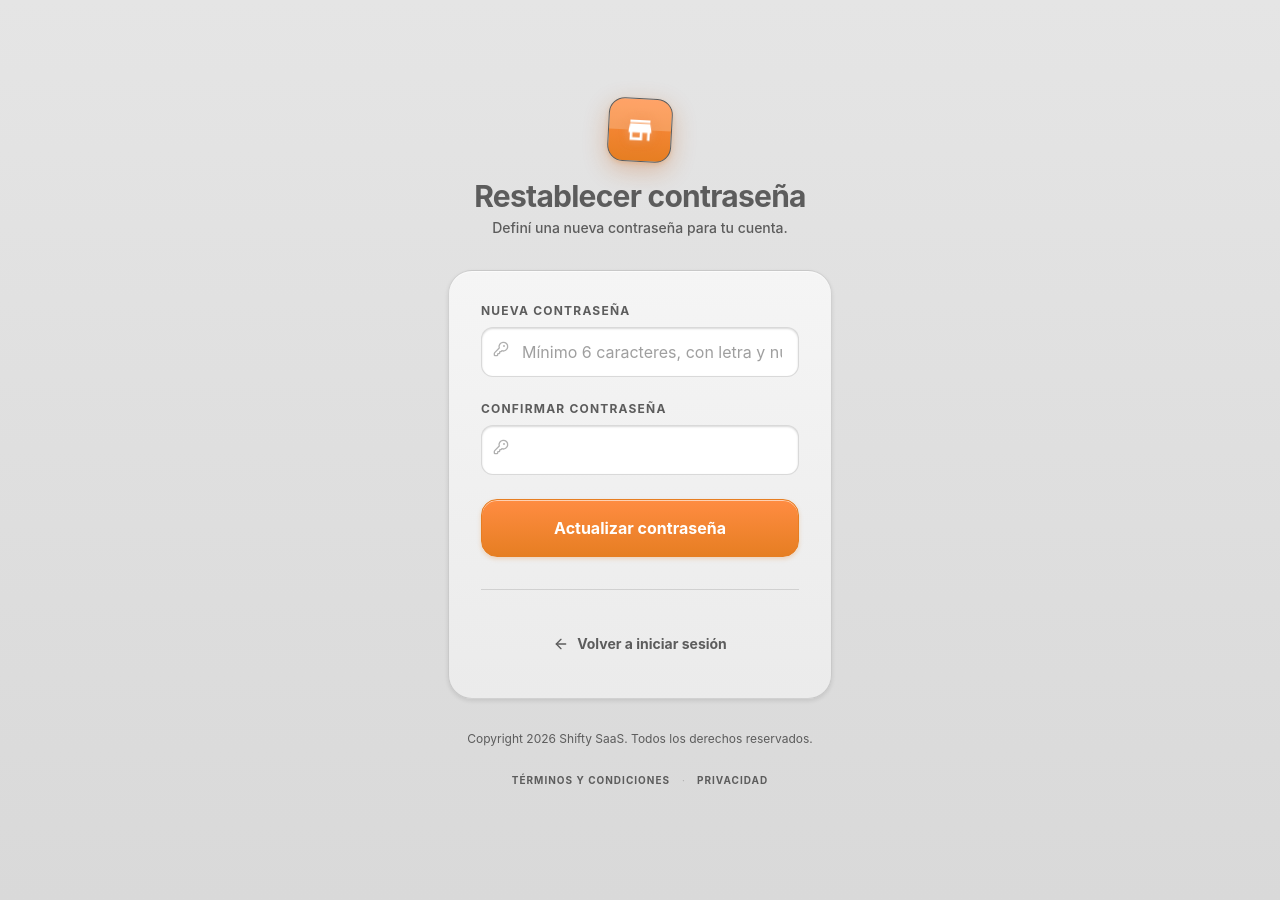
Test case: ResetPasswordPage › pide letra y número como el backend
This screenshot has width=1280, height=900.
Type "abcdefgh" into the password field labelled "Nueva contraseña" at coordinates (640, 352), box [481,326,799,376]
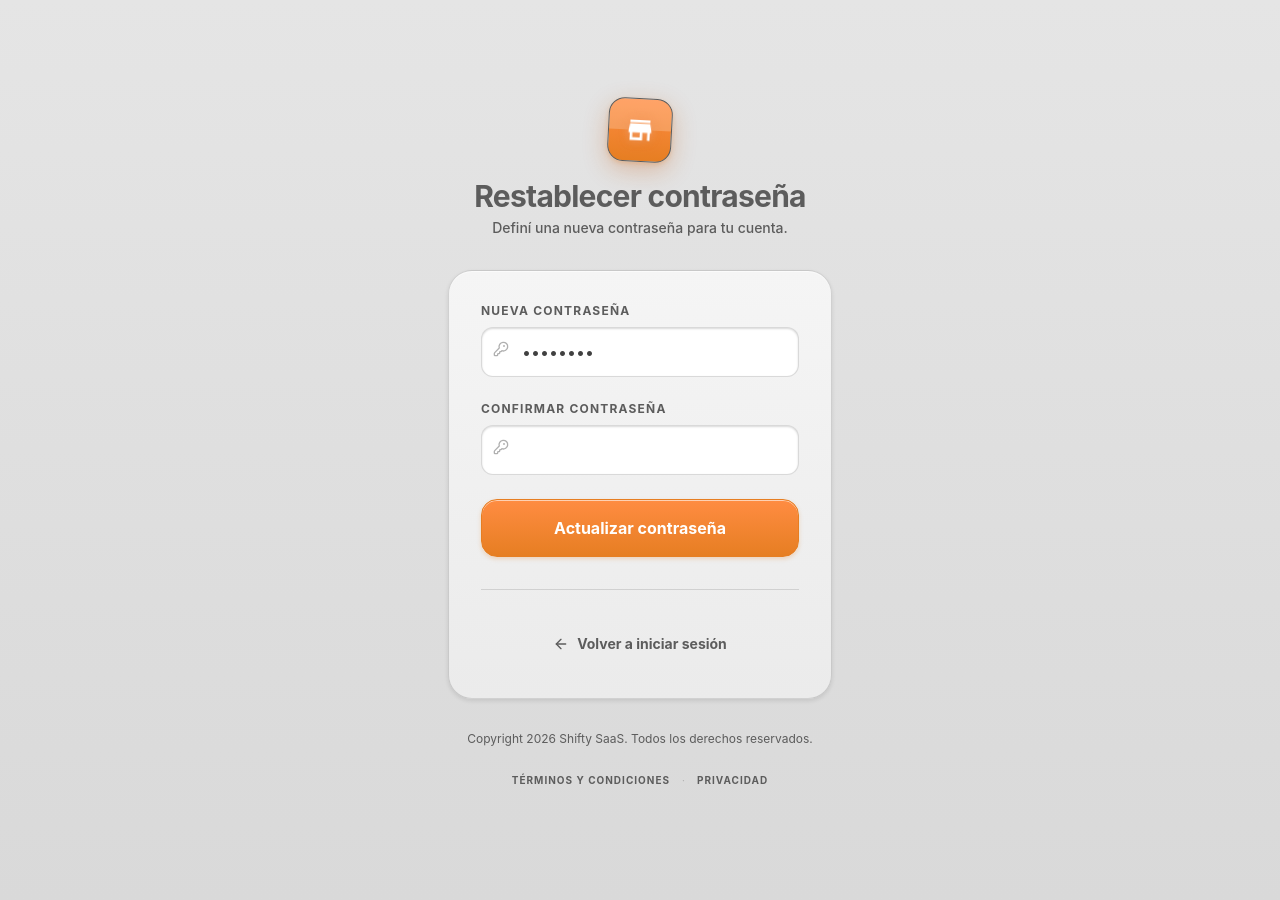
Type "abcdefgh" into the password field labelled "Confirmar contraseña" at coordinates (640, 450), box [481,424,799,474]
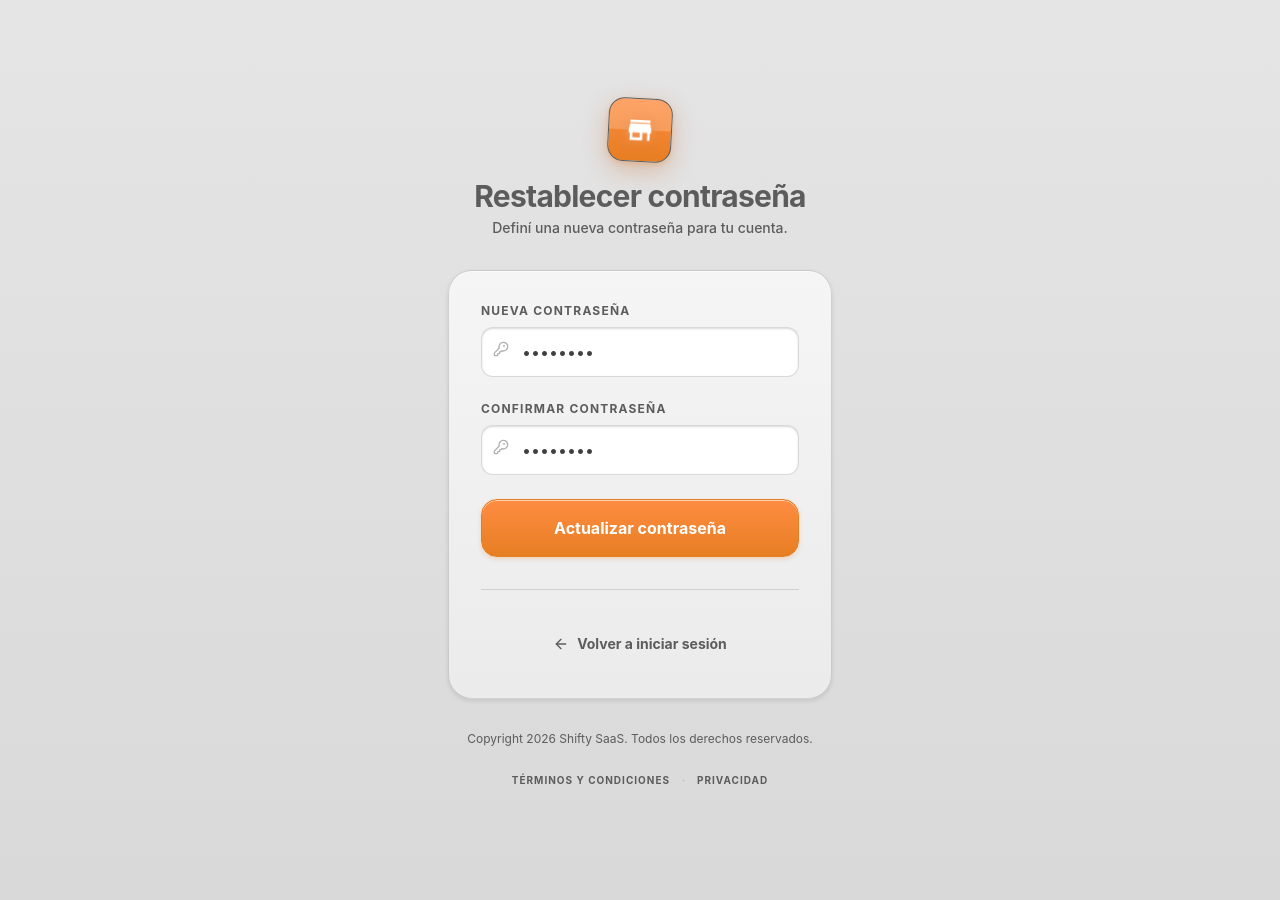
Submit the form "Actualizar contraseña", box [481,302,799,556]
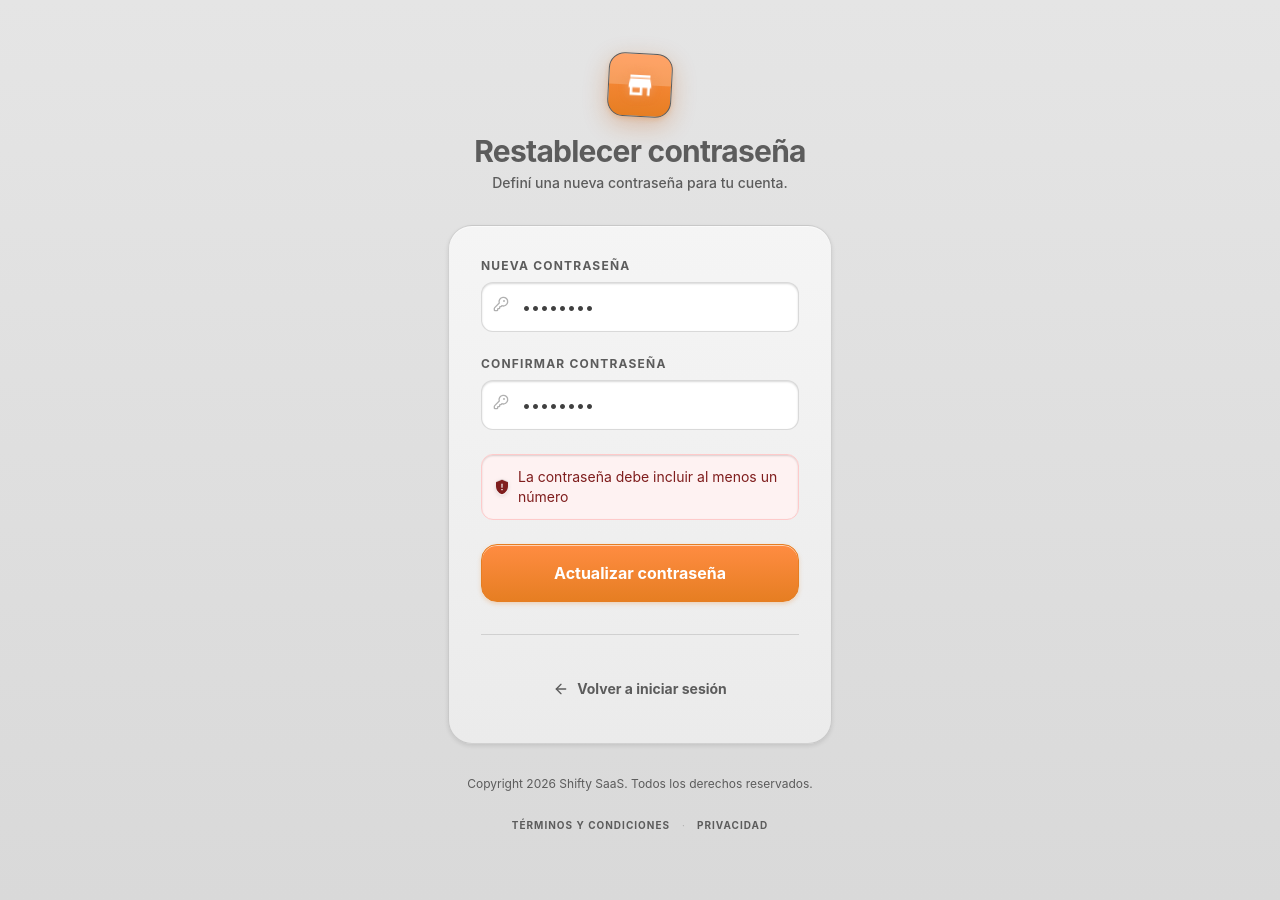
Check: the message reads "La contraseña debe incluir al menos un número", box [518,468,777,504]
